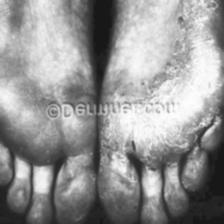Toxin: (155, 0, 220, 101), (137, 121, 181, 159)
